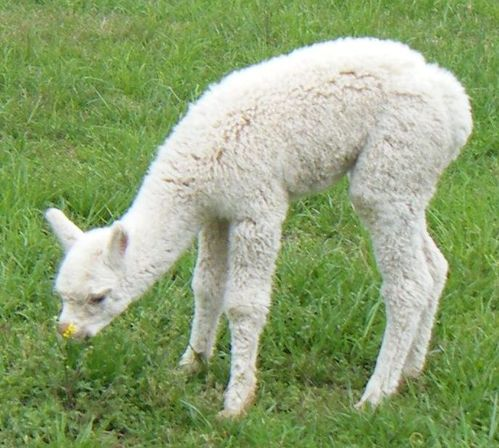alpaca: (43, 35, 473, 418)
